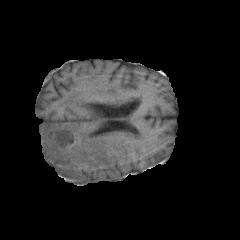glioma: (40, 96, 141, 178)
